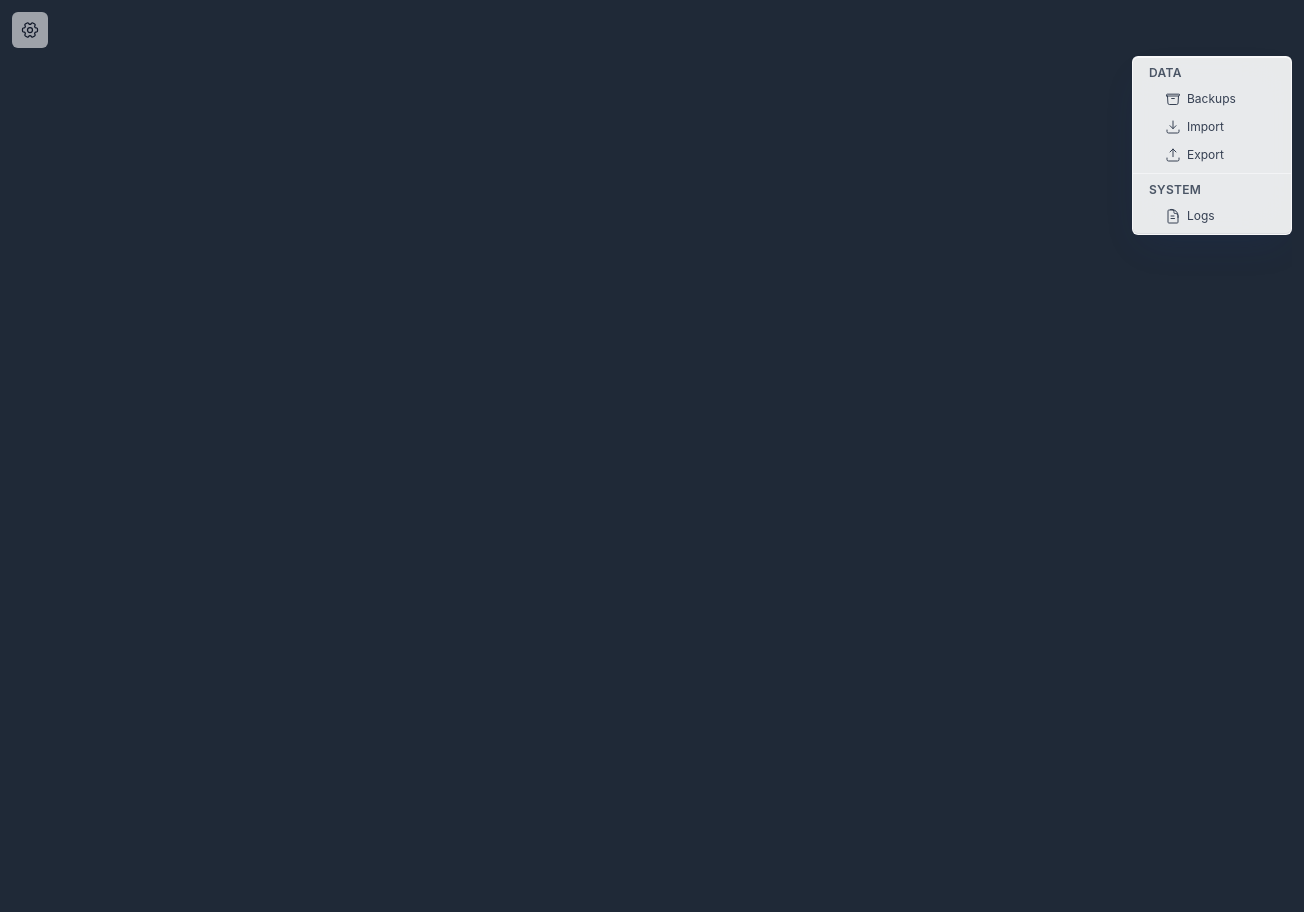
DataManagementMenu › downloads the export and shows a success toast
Click the menu item "Export": point(1212, 155) [1133,141,1291,169]
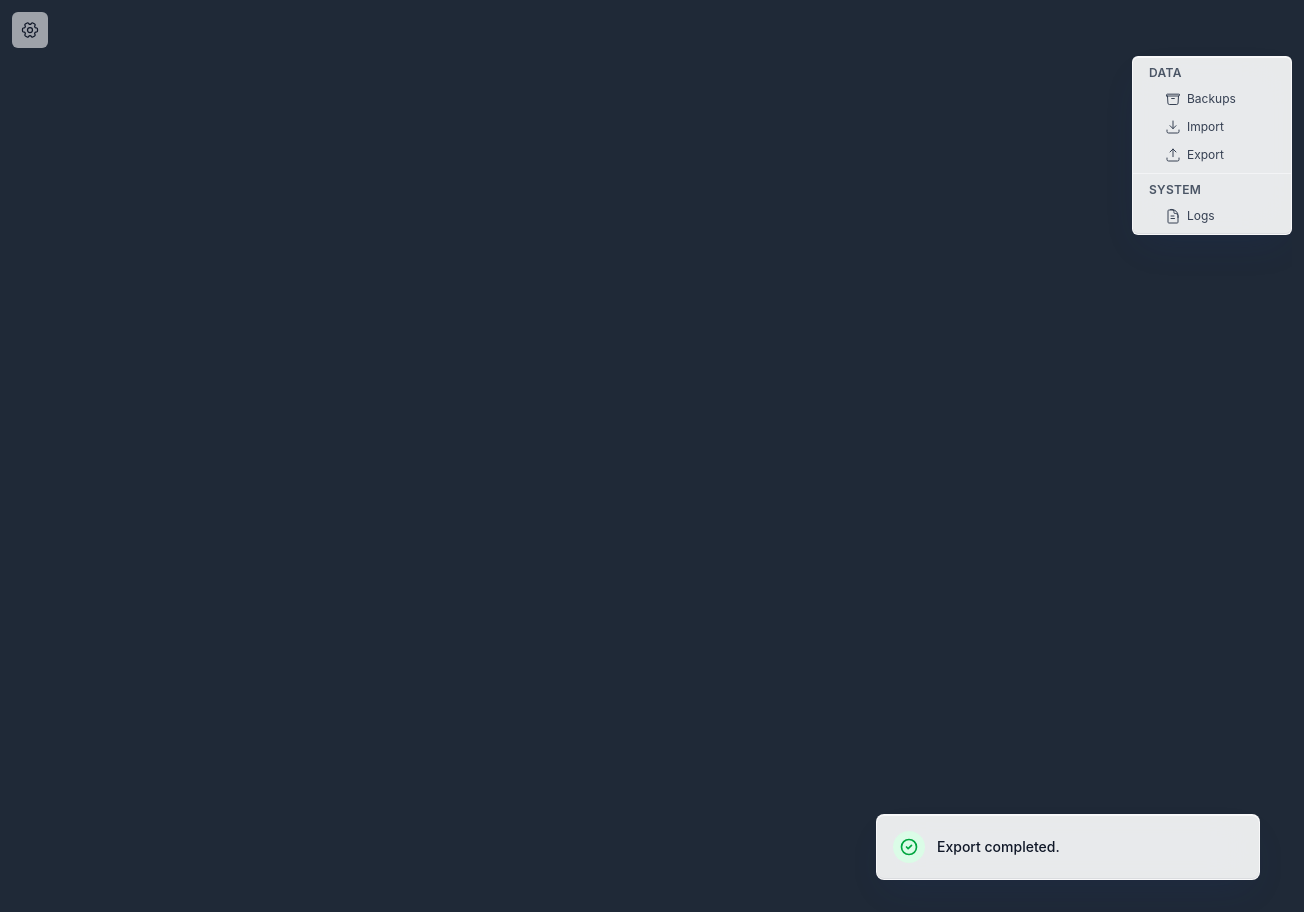
Expected: the text "Export completed." is shown, [937,837,1060,857]
